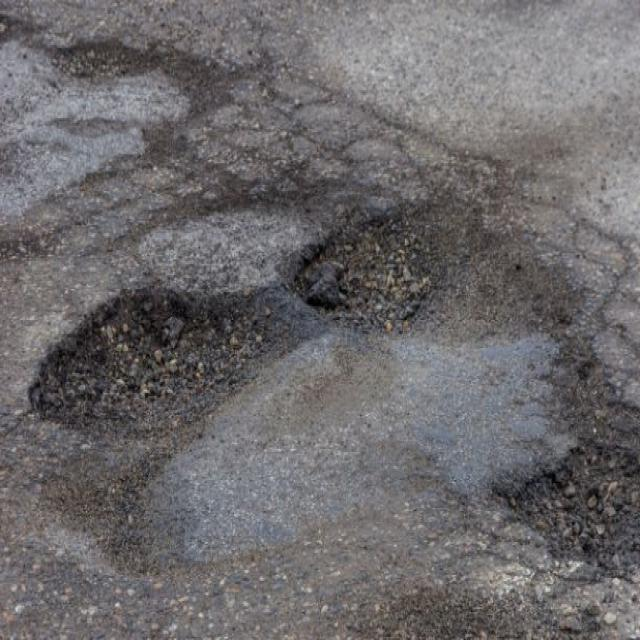pothole: (26, 274, 298, 450), (282, 188, 592, 340), (489, 432, 640, 575)
